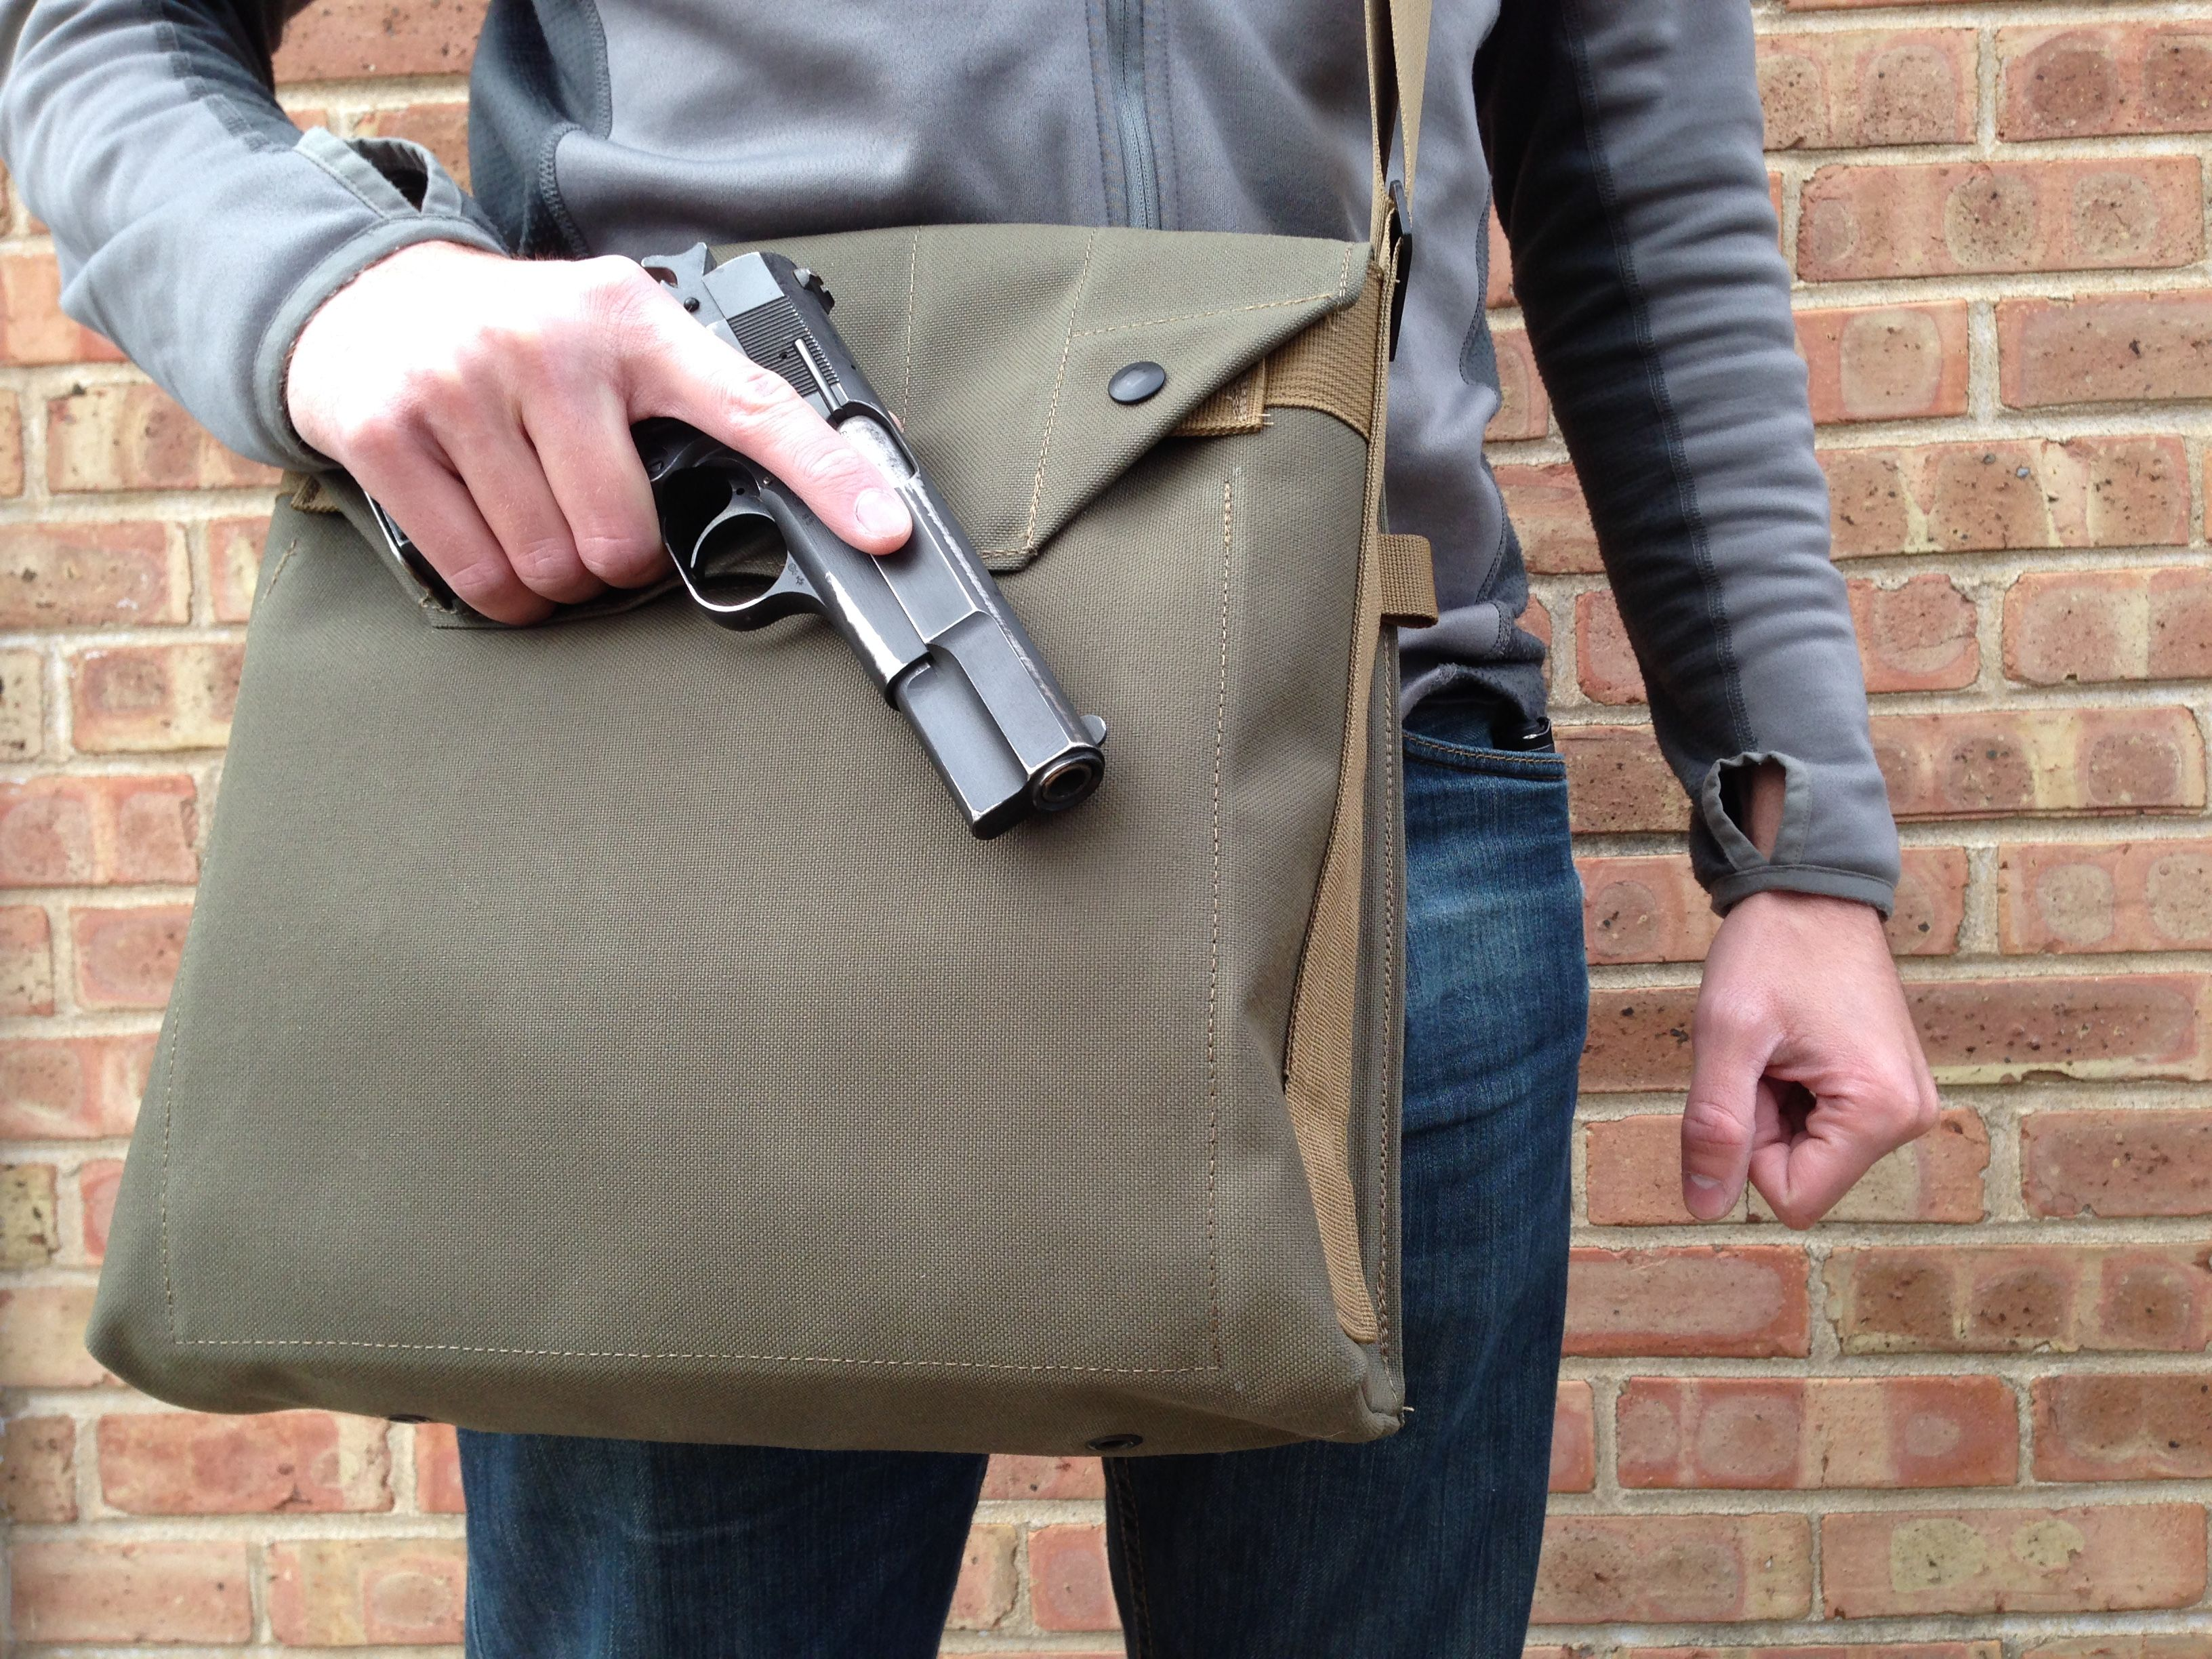gun: (355, 240, 1118, 957)
